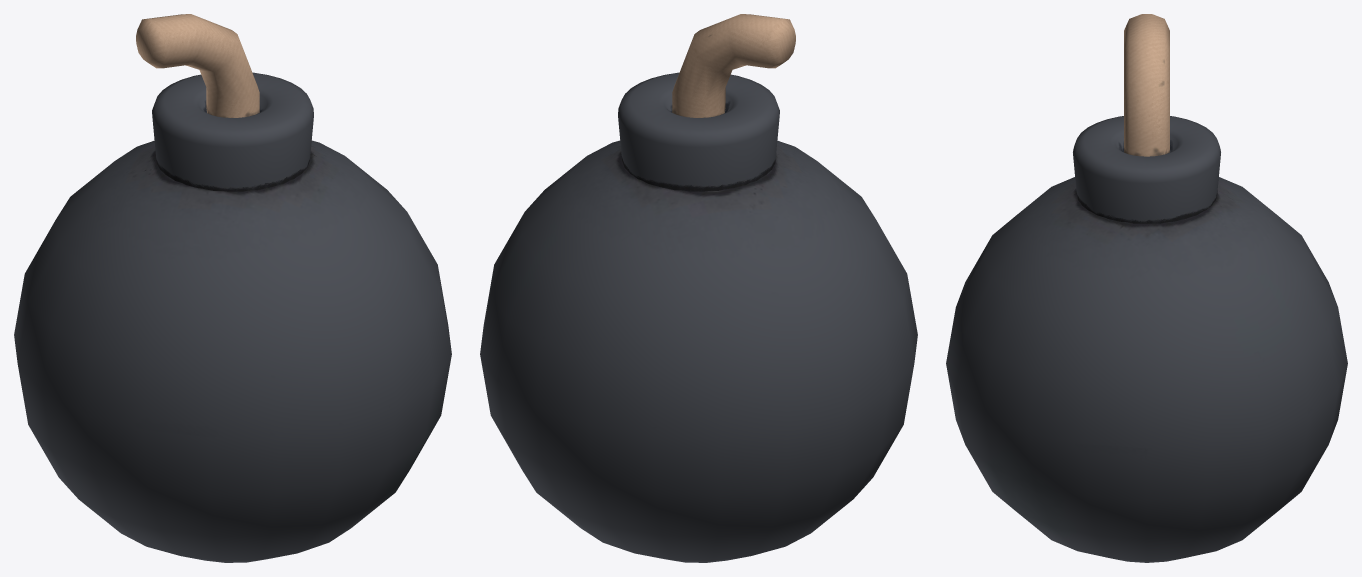
3 views of the same model, side by side, from view 1: azimuth 30°, elevation 25°; view 2: azimuth 150°, elevation 25°; view 3: azimuth 270°, elevation 25° (orthographic). The views are drawn at different scales.
Parts seen in each view (by area): view 1: Sphere; view 2: Sphere; view 3: Sphere.
Part boxes in pixels (box(x1,y1,x2,y2)): Sphere: box(14, 14, 451, 562); Sphere: box(480, 14, 917, 562); Sphere: box(946, 14, 1347, 562).
Size of the model in its own units: 0.5456 by 0.7421 by 0.5456.
Materials: 3 (3 with a texture image).
